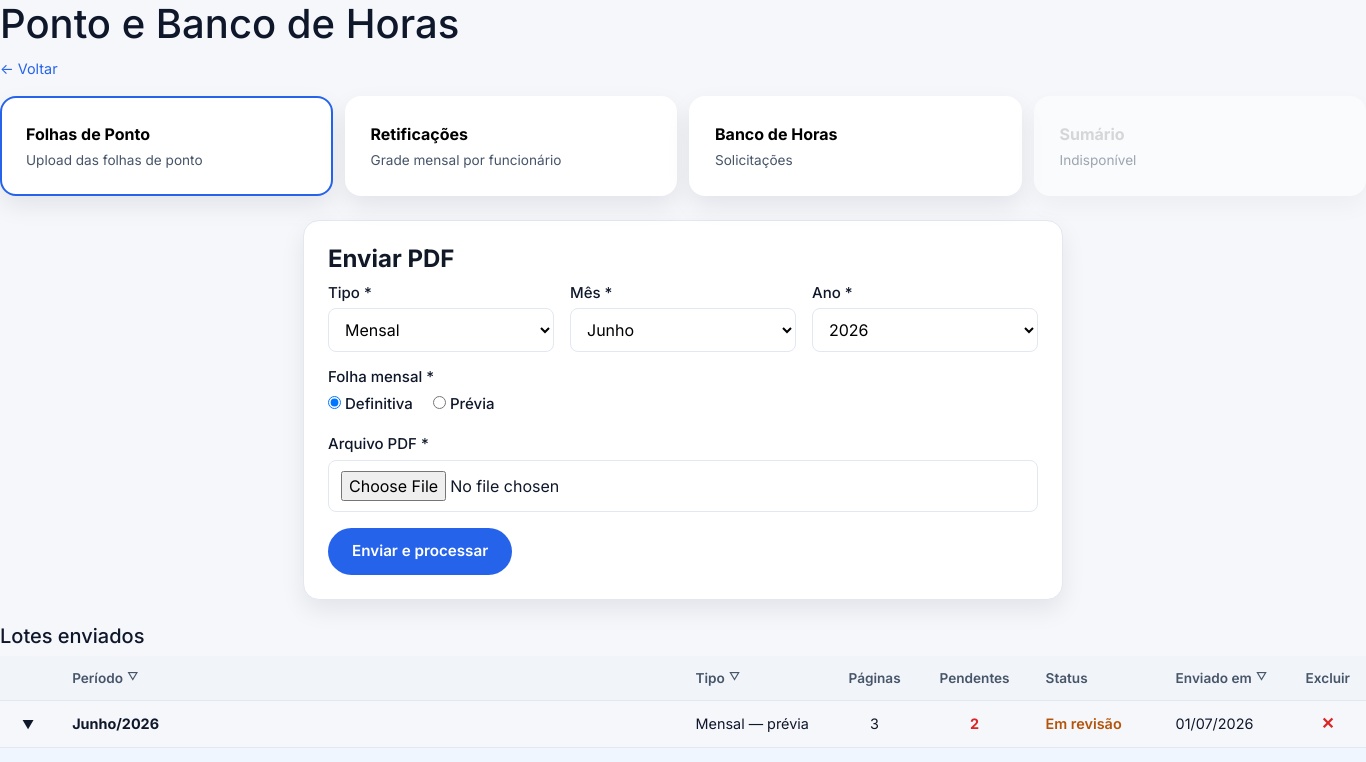
AdminPontoComponent › render da exclusão (X e modal dinâmico) › durante o DELETE em voo, "Excluir definitivamente" e "Cancelar" ficam DESABILITADOS
This screenshot has width=1366, height=762.
Click the button with class "btn-x-lote" at (1328, 723), box [1315,713,1340,733]
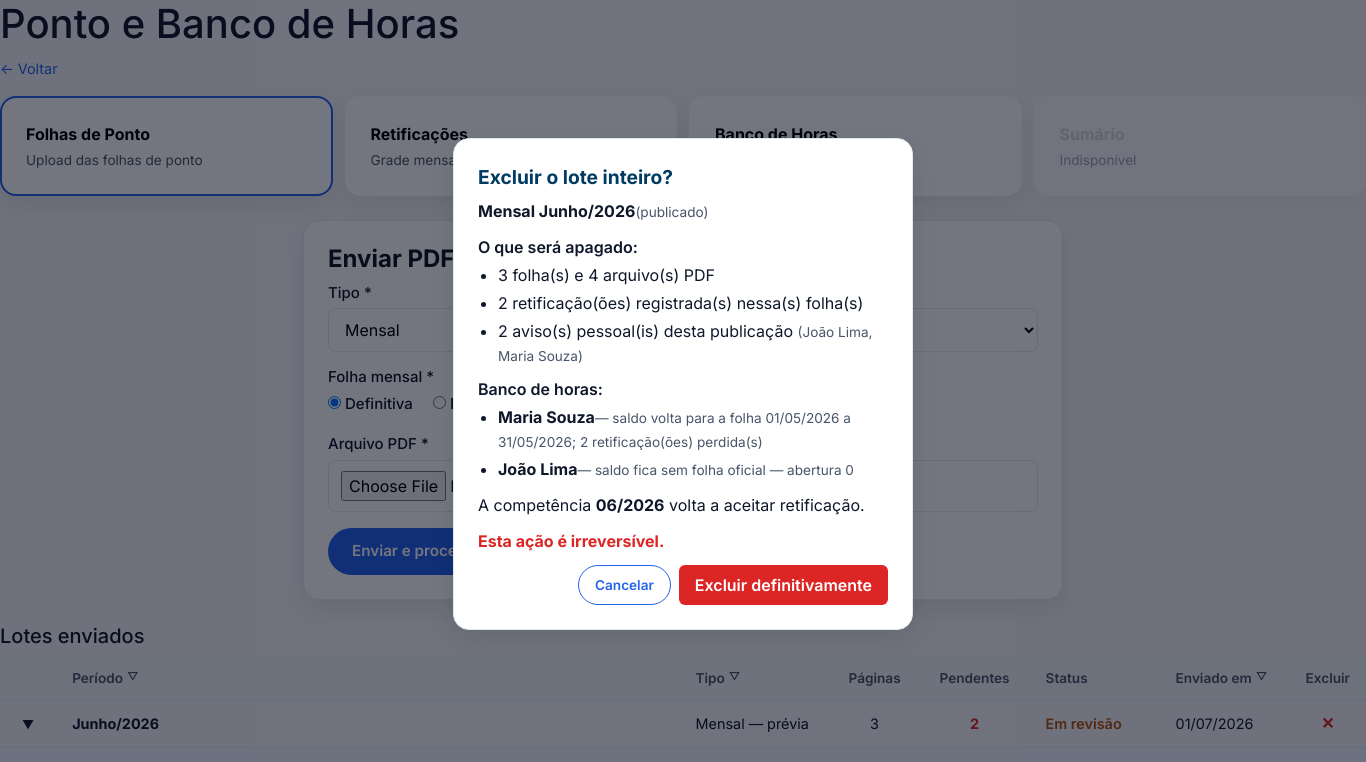
Check: the button with class "btn-danger" is enabled
Click the button with class "btn-danger" at (783, 585), box [679,565,888,605]
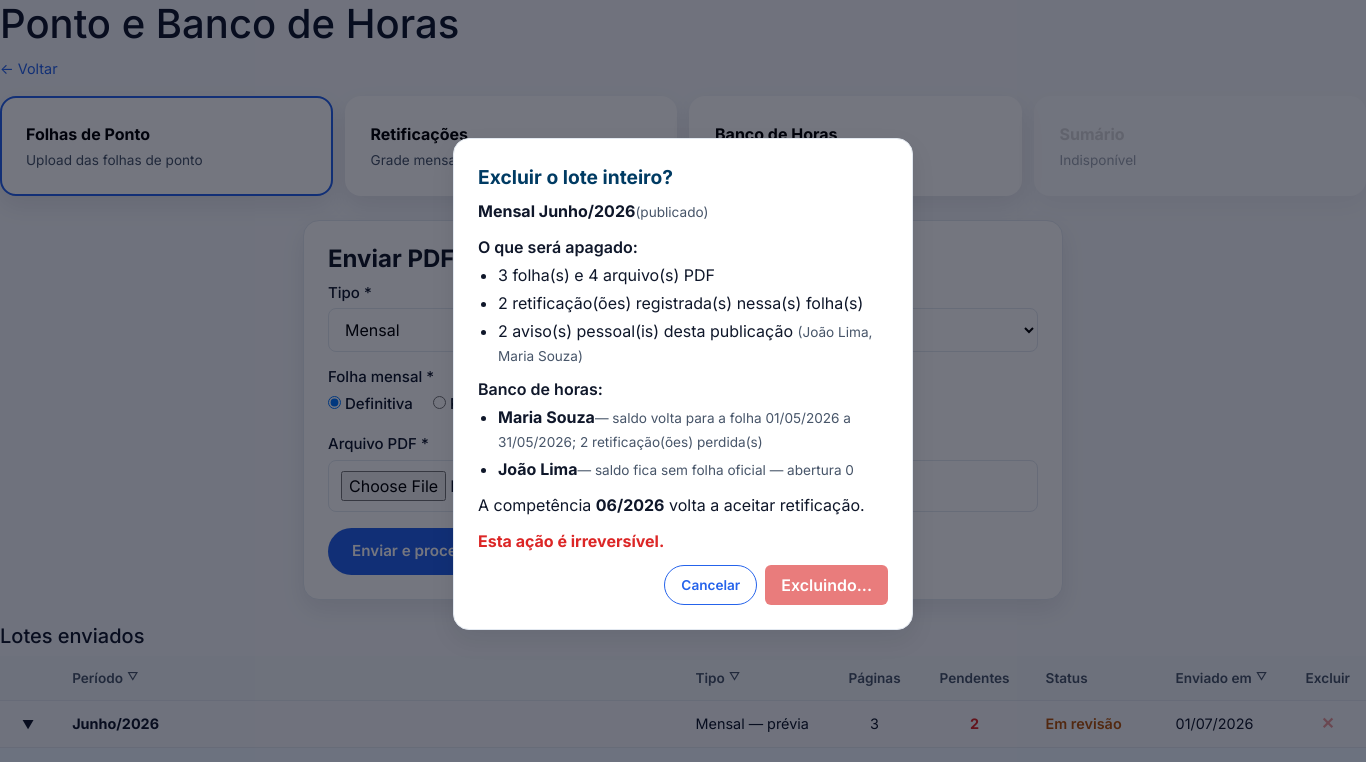
Check: the button with class "btn-danger" is disabled, box [765,565,888,605]
Check: the button with class "btn-outline" is disabled, box [664,565,757,605]
Check: the button with class "btn-danger" reads "Excluindo...", box [765,565,888,605]
